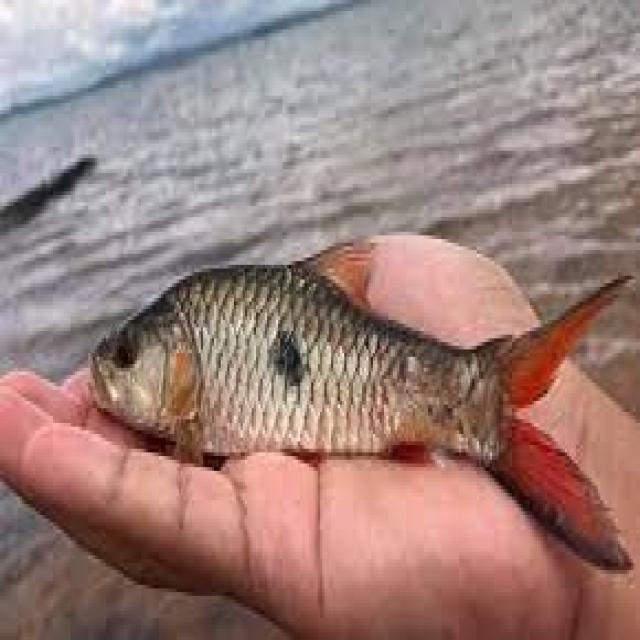Black-Spotted-Barb: (81, 173, 640, 574)
